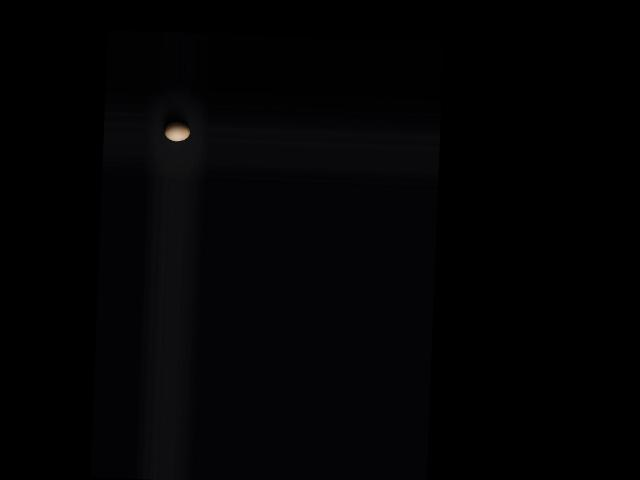egg: (163, 122, 190, 142)
